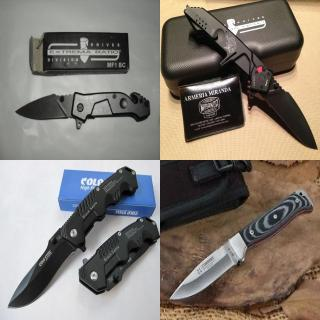knife: (5, 227, 77, 313), (166, 230, 250, 301), (256, 71, 318, 151), (12, 89, 100, 131)
